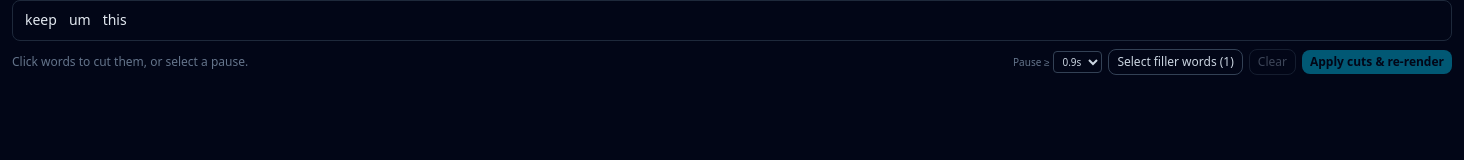
Test case: TranscriptEditor (U4) › selects filler words for review without rendering immediately
Expected: the button with aria-label "Cut “um”" is shown, [65,9,95,32]
Step 1. Click the button "Select filler words (1)" → (1176, 62), box [1108,49,1243,75]
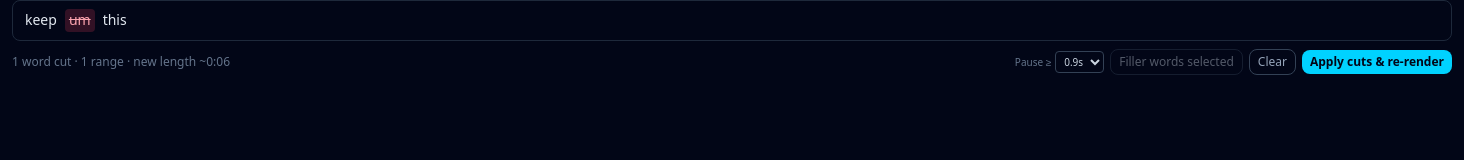
Expected: the button "Apply cuts & re-render" is enabled, [1302,50,1452,74]
Expected: the text "1 word cut · 1 range · new length ~0:06" is shown, [12,54,230,70]
